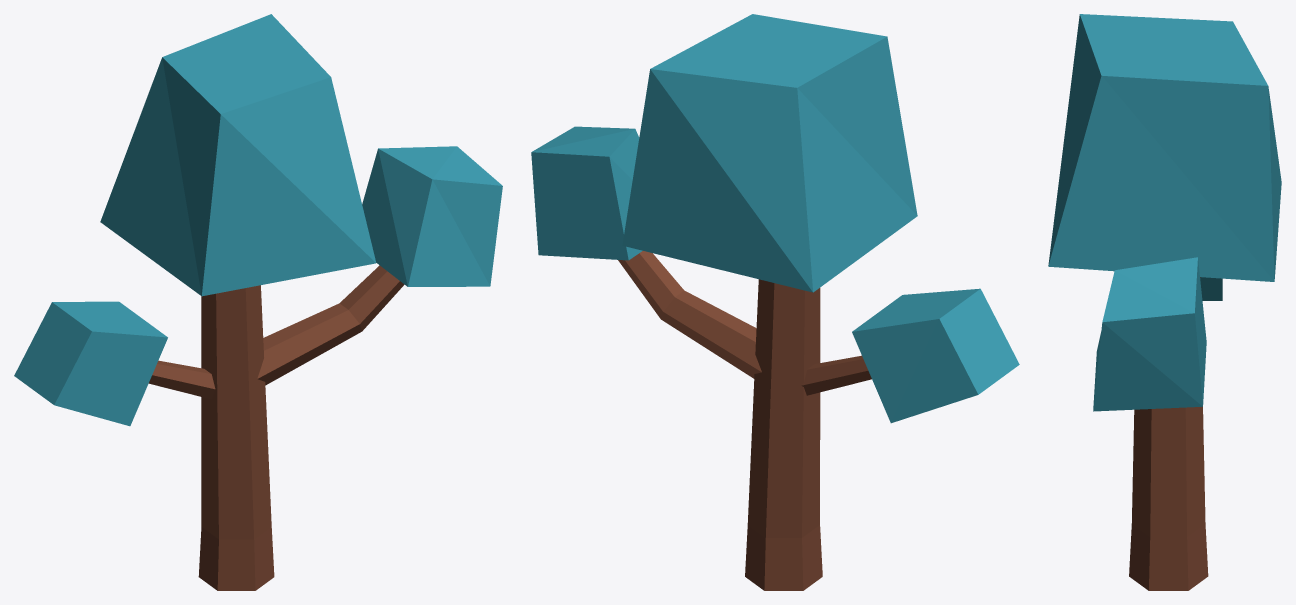
Rendered from Tree_44_summer_blue_vc.fbx.
3 renders of one model, left to right at view 1: azimuth 30°, elevation 25°; view 2: azimuth 150°, elevation 25°; view 3: azimuth 270°, elevation 25°, orthographic. The views are drawn at different scales.
Visible parts, largest first — view 1: Tree_44_summer_blue_vc; view 2: Tree_44_summer_blue_vc; view 3: Tree_44_summer_blue_vc.
Part boxes in pixels (bbox=[...]): Tree_44_summer_blue_vc: bbox=[14, 14, 502, 590]; Tree_44_summer_blue_vc: bbox=[531, 14, 1019, 590]; Tree_44_summer_blue_vc: bbox=[1048, 14, 1281, 590].
Bounding box in the file's own units: 162 × 179 × 70.99.
